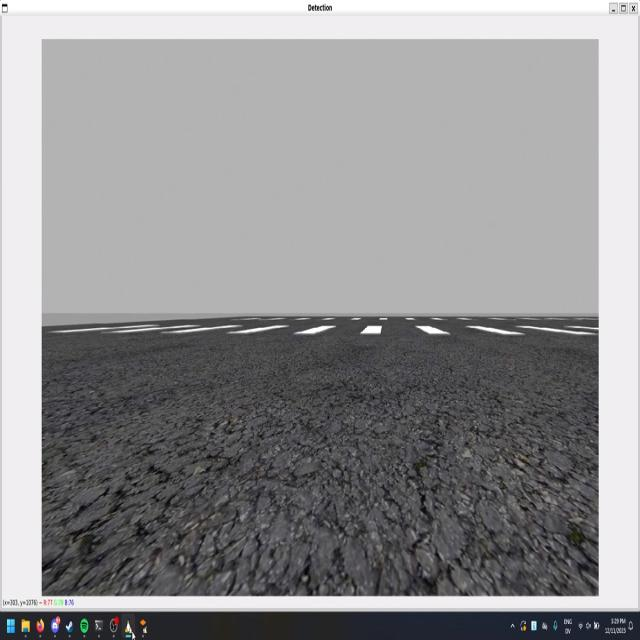crosswalk: (46, 324, 598, 336)
